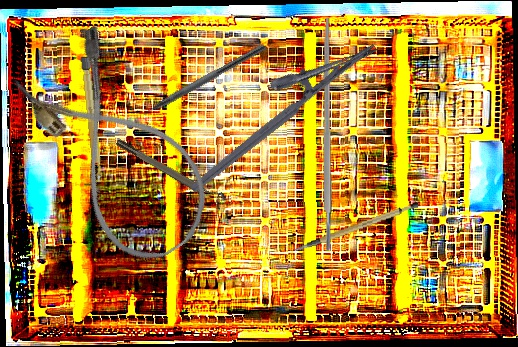Cannula: (7, 20, 229, 277)
Chopper: (126, 34, 268, 125)
Fixation Ring: (114, 132, 228, 210)
Needle Holder: (169, 18, 379, 194)
Scalpel Handle: (287, 199, 424, 253), (79, 56, 104, 182), (322, 18, 332, 251)
